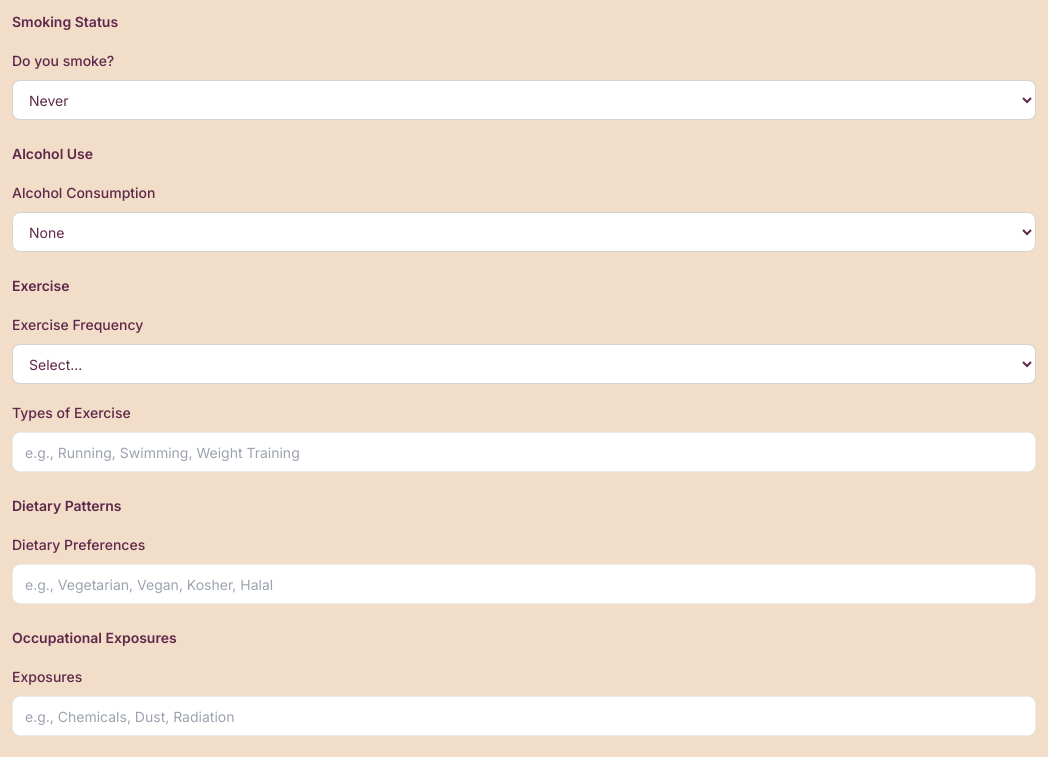
LifestyleForm › Smoking Status › should show smoking history fields when status is "former"
Select "Former Smoker" in the dropdown labelled "Do you smoke?": (524,100) [12,80,1036,120]
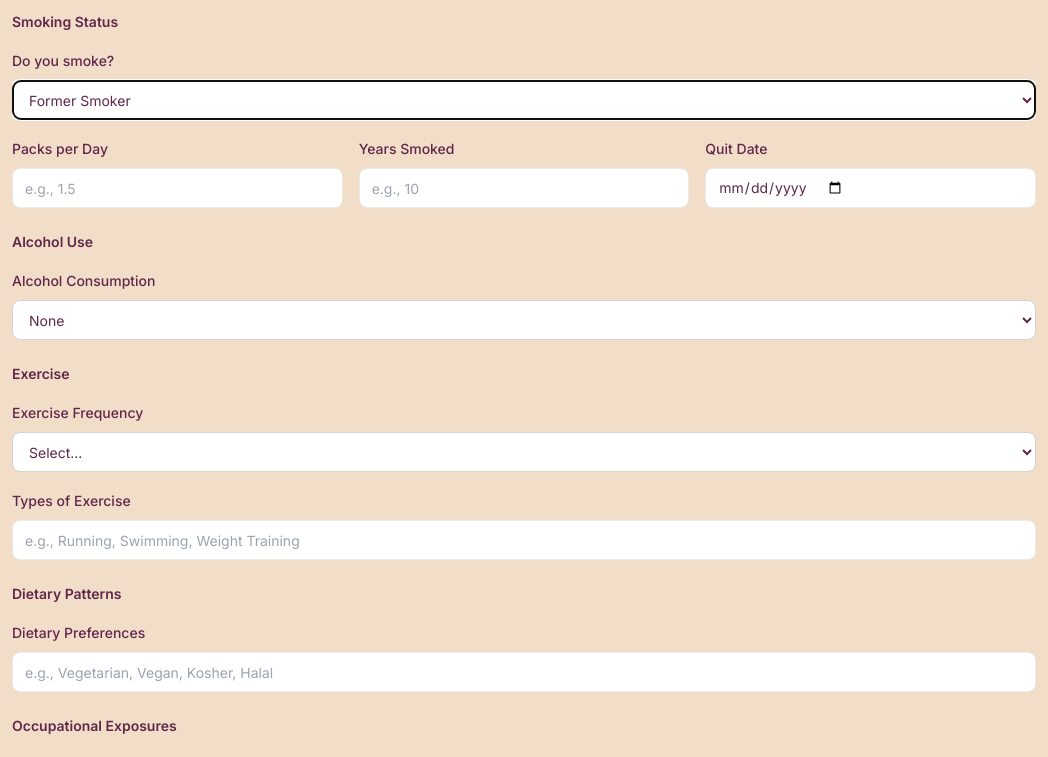
Expected: the number field labelled "Packs per Day" is shown, [12,168,343,208]
Expected: the number field labelled "Years Smoked" is shown, [359,168,689,208]
Expected: the date field labelled "Quit Date" is shown, [705,168,1036,208]
